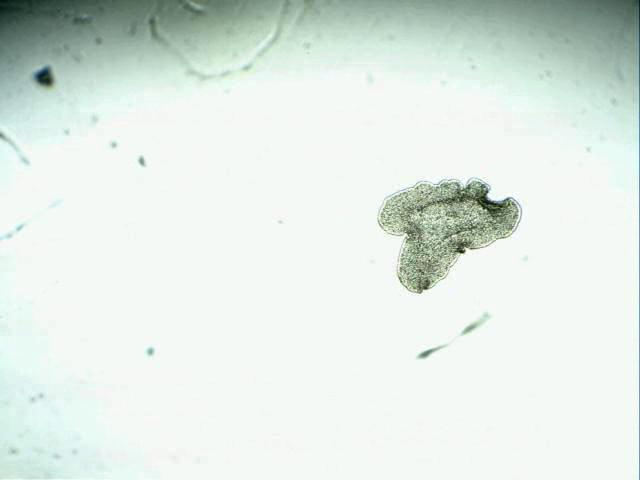Placozoan: (376, 178, 522, 294)
